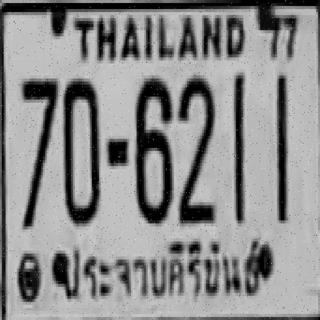N00: (63, 74, 100, 222)
N01: (232, 71, 243, 222), (275, 72, 286, 220)
N02: (178, 74, 213, 222)
N06: (135, 76, 170, 220)
N07: (20, 76, 57, 226), (21, 74, 56, 177)
P50: (56, 236, 264, 306)
